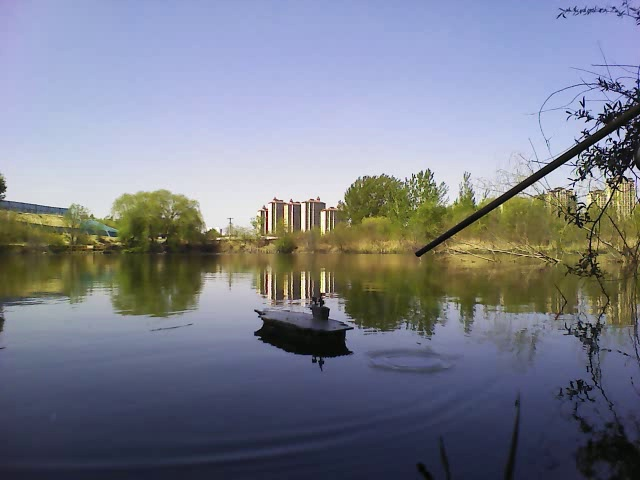aircraft_carrier: (253, 297, 361, 346)
